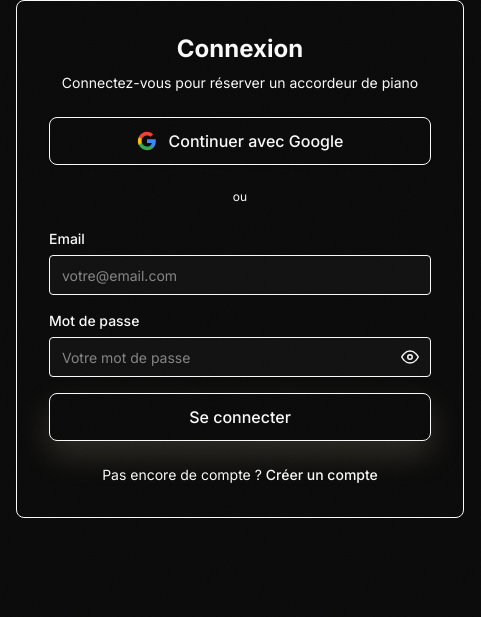
Login › bascule retour en mode connexion
The image size is (481, 617).
Click the button "Créer un compte" at (322, 475), box [266, 465, 378, 485]
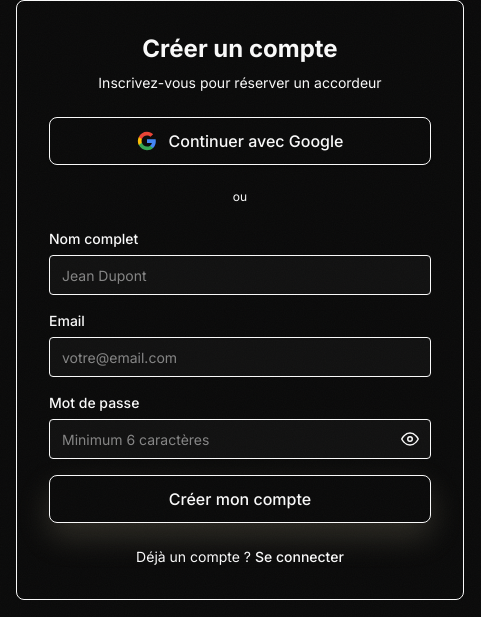
Click the button "Se connecter" at (299, 557), box [255, 547, 344, 567]
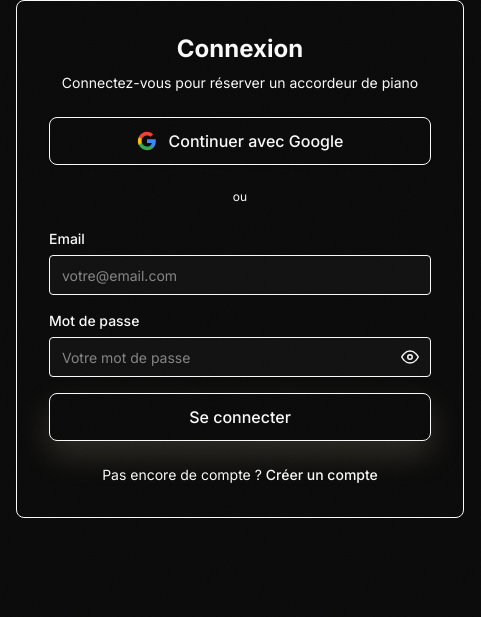
Result: the heading "Connexion" is shown at [177, 34, 303, 63]
